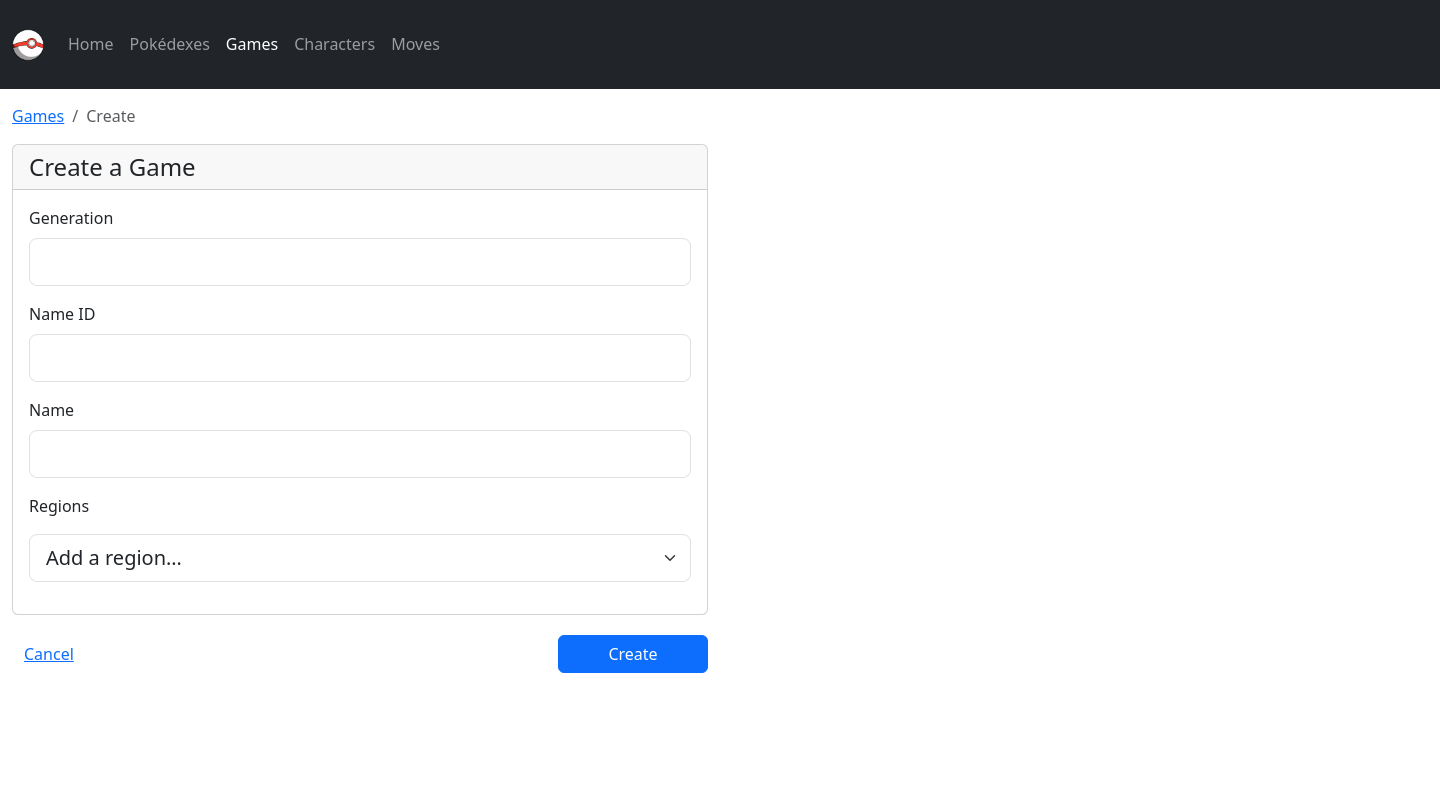
Test: games pages › shows an error toast when create fails
Click the button "Create" at (633, 654), box [558, 635, 708, 673]
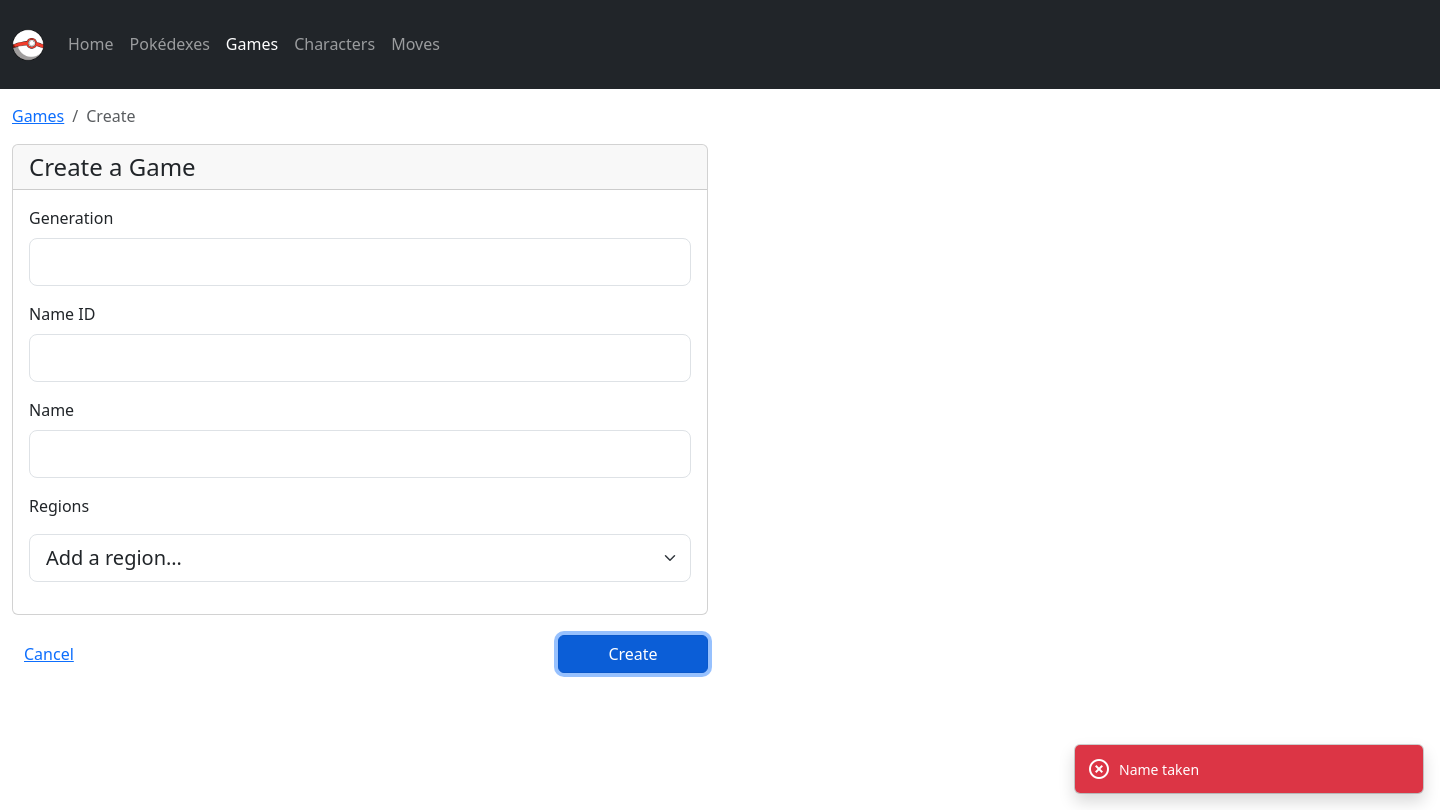
Expected: the text "Name taken" is shown, [1119, 758, 1199, 780]
